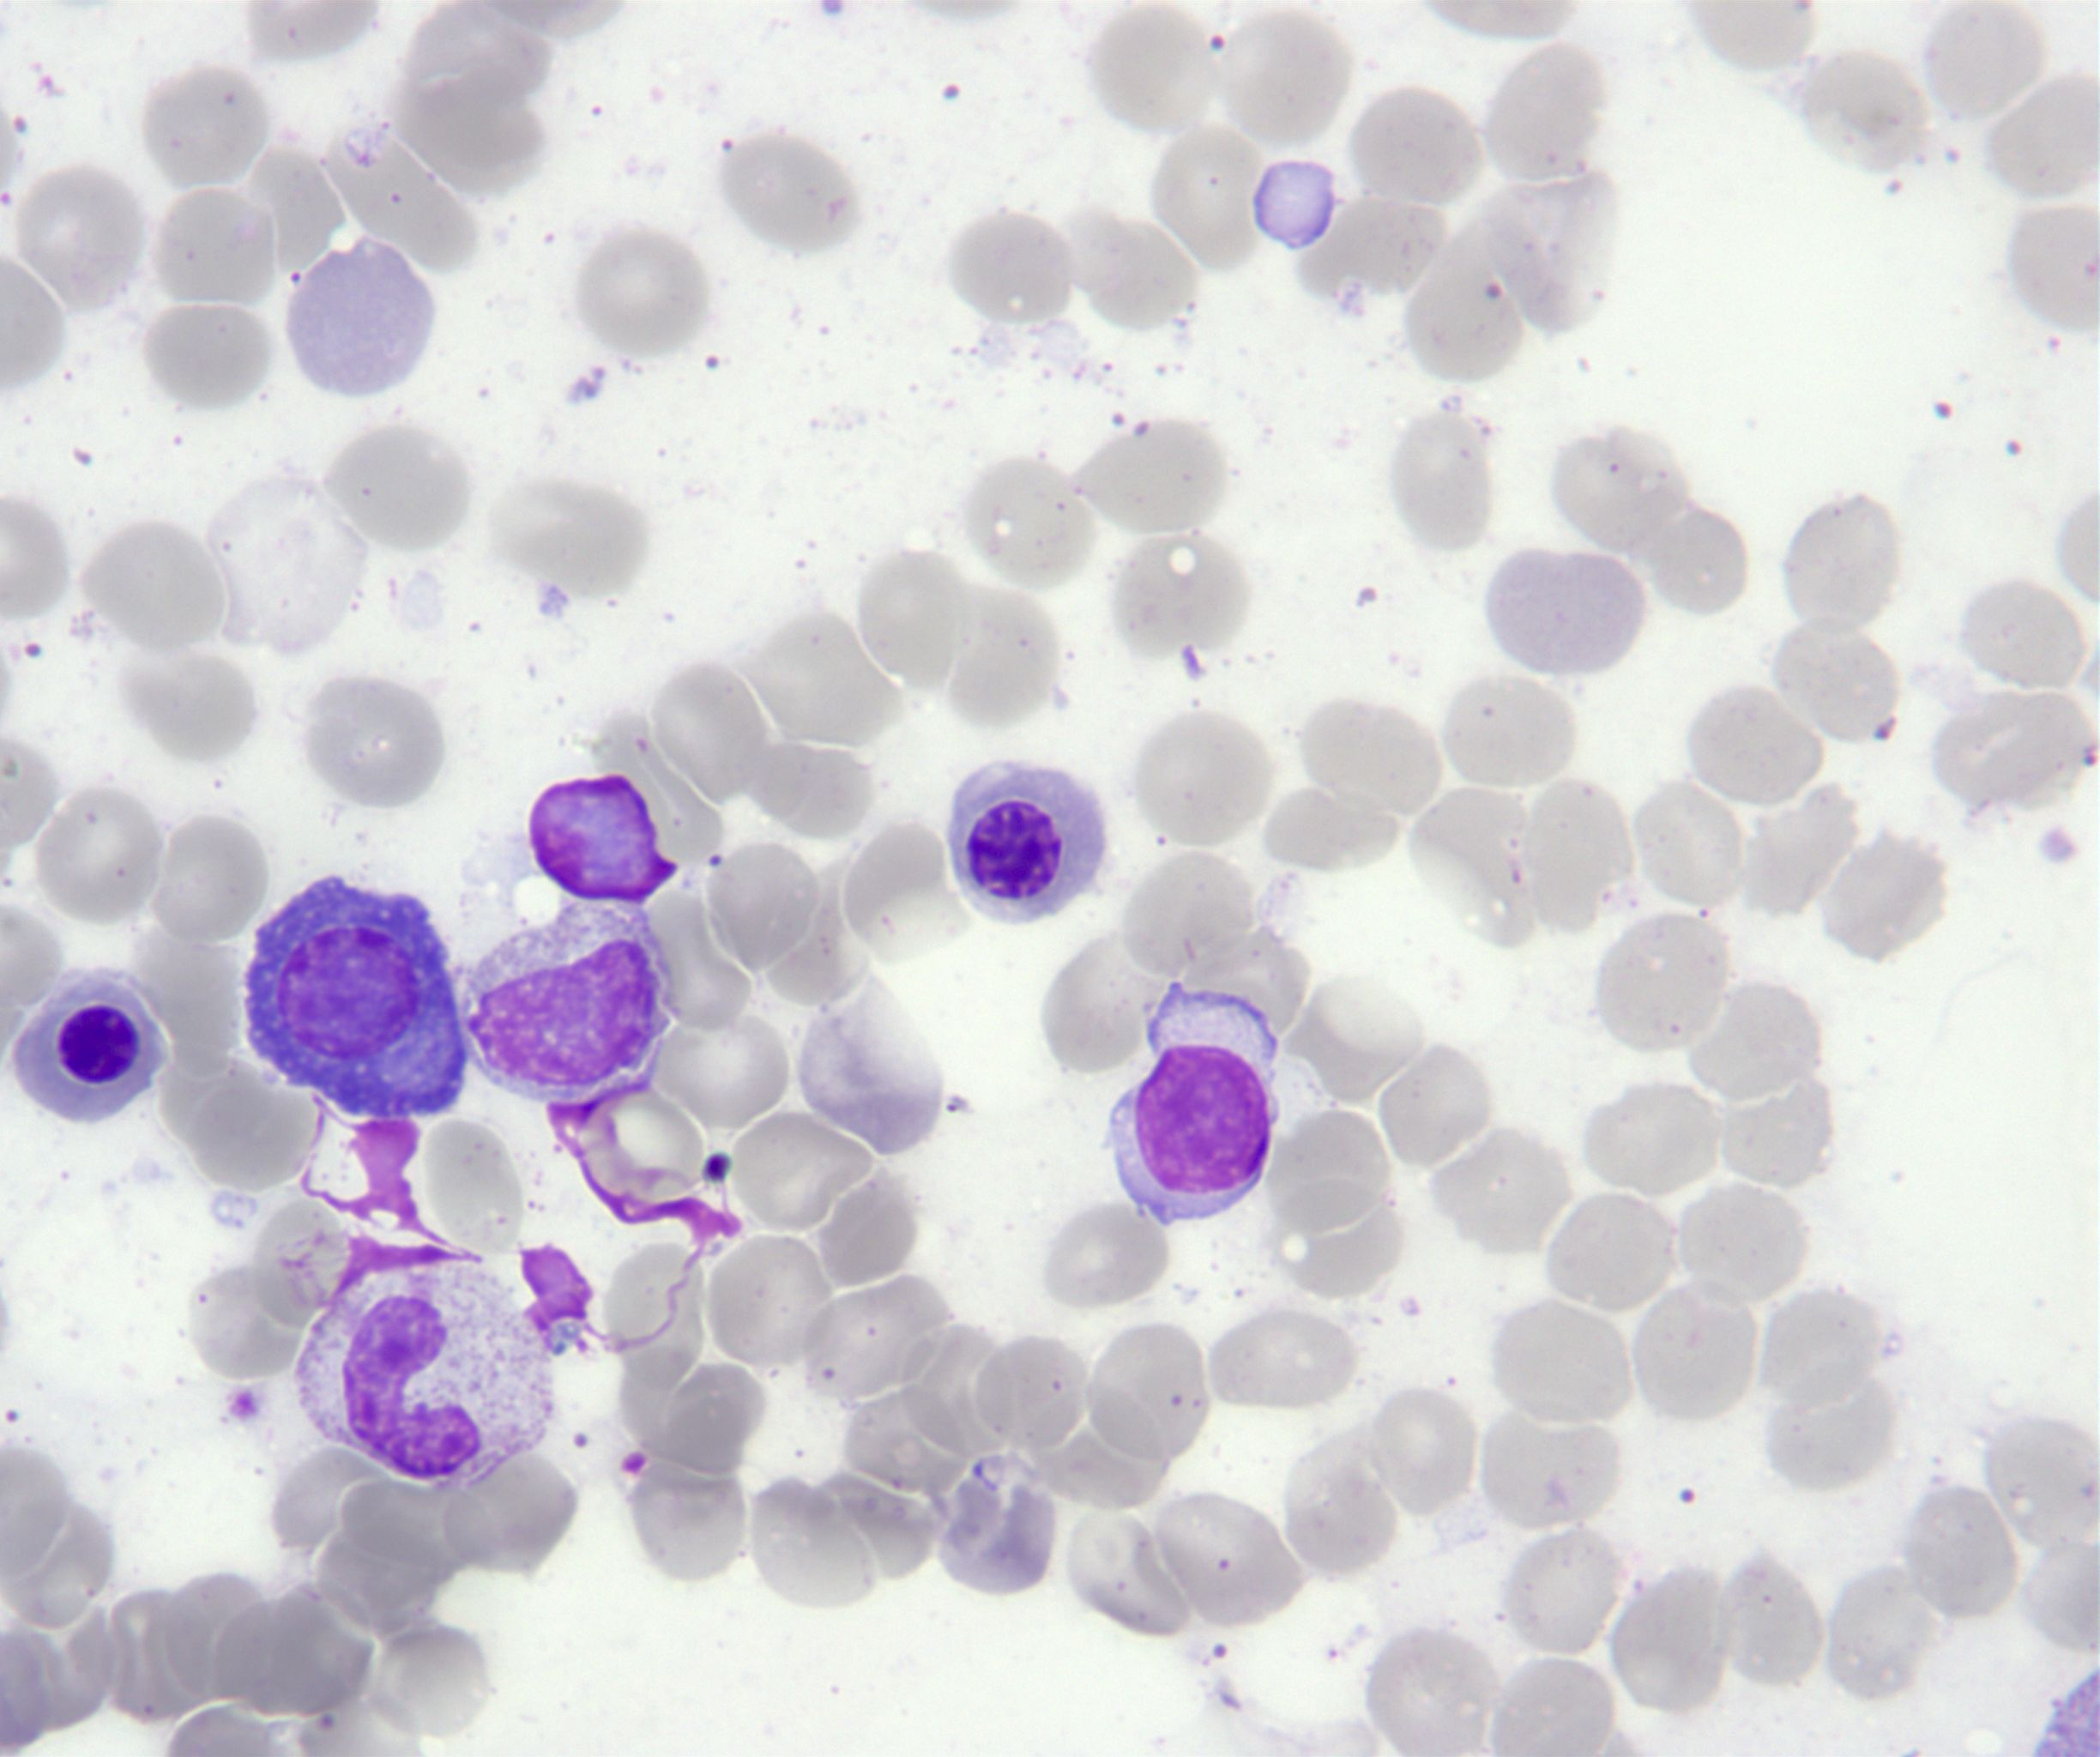24: (945, 761, 1104, 925), (14, 970, 171, 1127)
3: (460, 902, 670, 1103)
32: (1109, 981, 1278, 1227)
5: (295, 1251, 553, 1492)
52: (246, 874, 467, 1117)
x: (530, 775, 678, 902)
